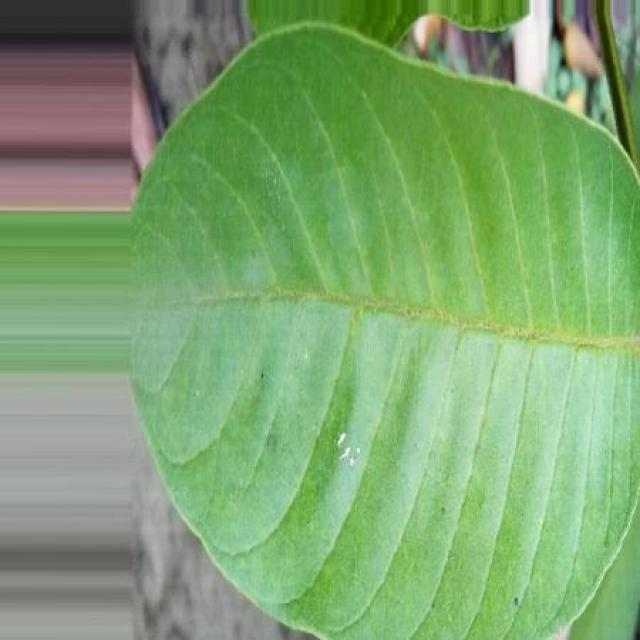Disease Free: (134, 24, 640, 640)
